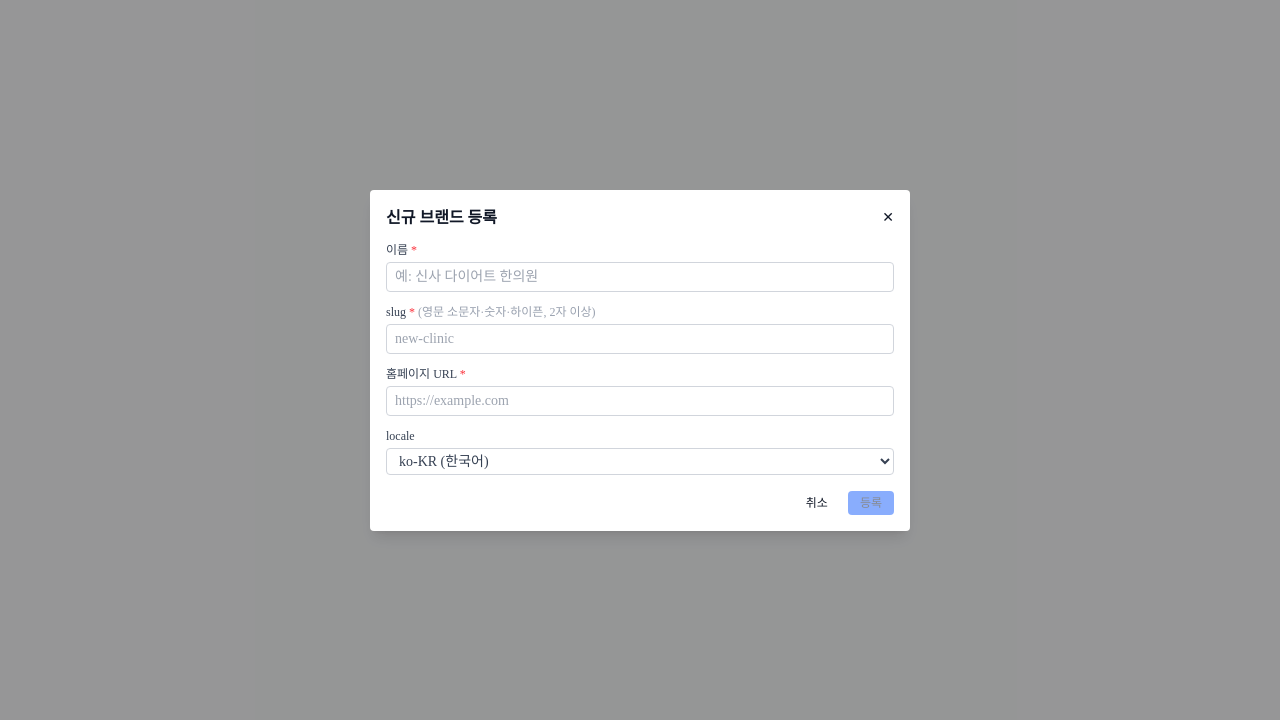
Test: BrandRegisterDialog › name 입력 시 slug 자동 제안 (영문/숫자/하이픈만)
The width and height of the screenshot is (1280, 720).
Type "Test Clinic" into the field with placeholder "예: 신사 다이어트 한의원" at x=640, y=276, box left=386, top=262, right=894, bottom=292
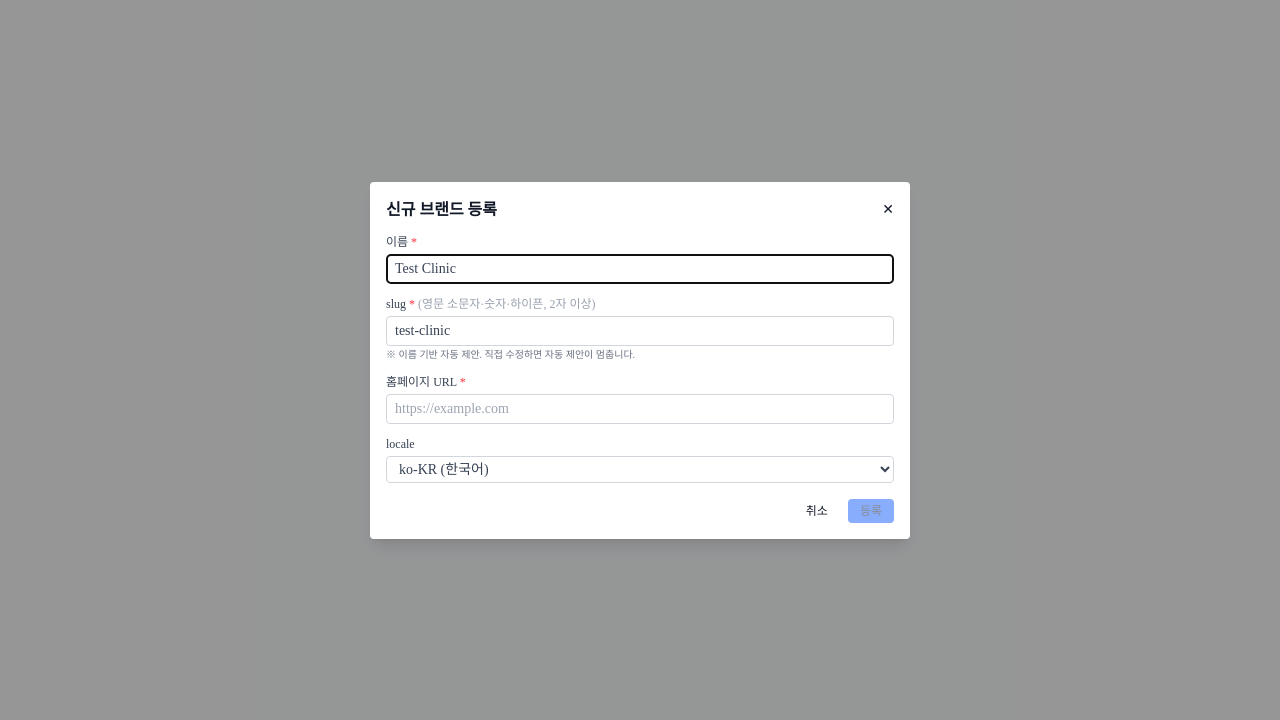
Expected: the field with placeholder "test-clinic" holds "test-clinic", left=386, top=316, right=894, bottom=346
